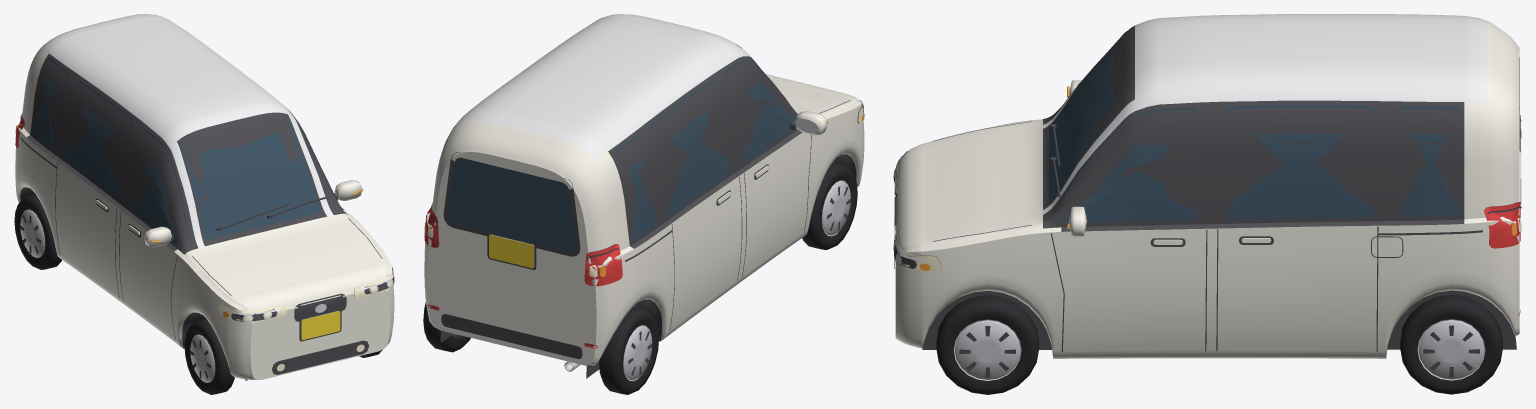
Rendered from 353_close.fbx.
3 views of the same model, side by side, from view 1: azimuth 30°, elevation 25°; view 2: azimuth 150°, elevation 25°; view 3: azimuth 270°, elevation 25° (orthographic). The views are drawn at different scales.
Visible parts, largest first — view 1: 353_close; view 2: 353_close; view 3: 353_close.
Boxes of the visible parts, <box> form: 353_close: <box>14,14,394,394</box>; 353_close: <box>423,14,864,394</box>; 353_close: <box>893,14,1521,394</box>.
Bounding box in the file's own units: 1.83 × 1.8 × 3.41.
